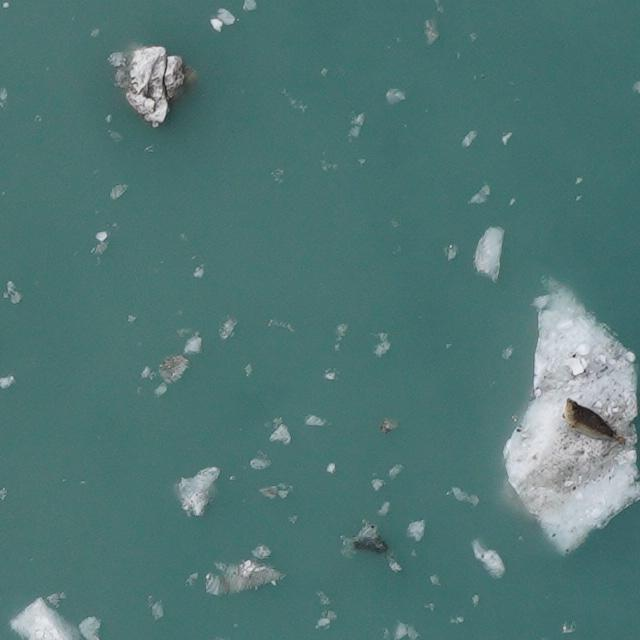seal: (555, 394, 630, 459)
